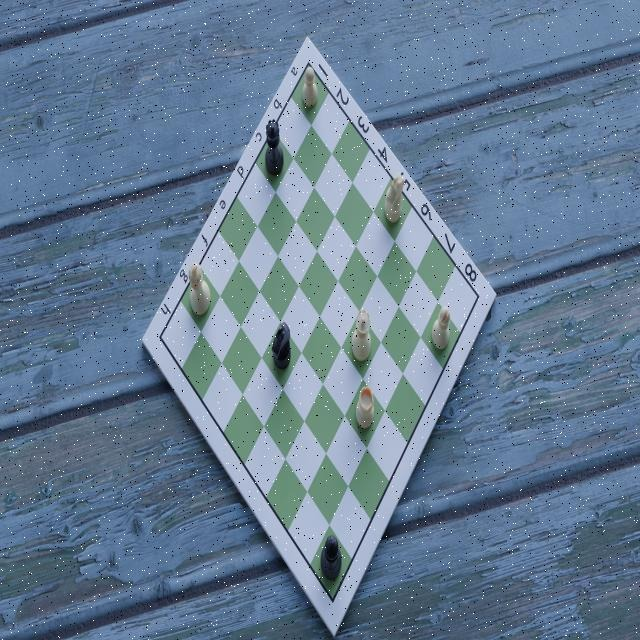black-king: (319, 536, 341, 583)
black-knight: (271, 320, 293, 375)
black-queen: (264, 122, 284, 180)
white-bishop: (429, 303, 451, 357)
white-king: (188, 263, 212, 321)
white-knight: (382, 174, 405, 230)
white-pawn: (301, 64, 319, 113)
white-queen: (350, 305, 373, 367)
white-rook: (354, 383, 376, 435)
